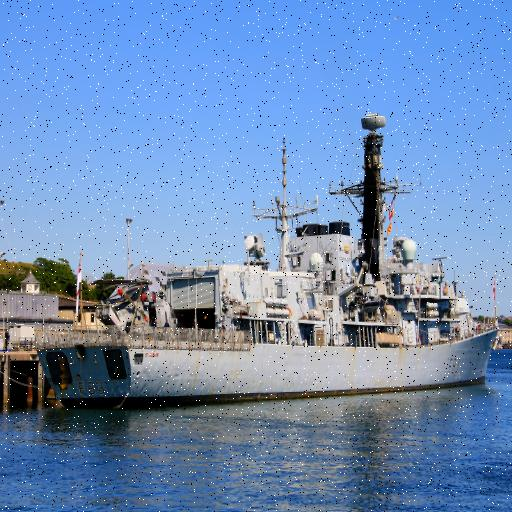Fragata: (32, 133, 503, 418)
